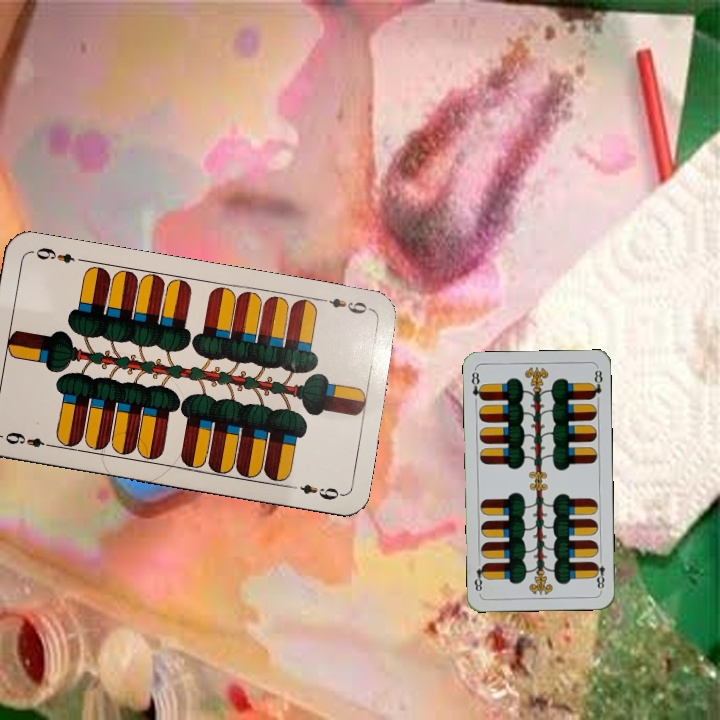E8: (467, 367, 486, 403), (590, 553, 607, 593)
E9: (315, 294, 374, 317), (1, 427, 57, 450)
